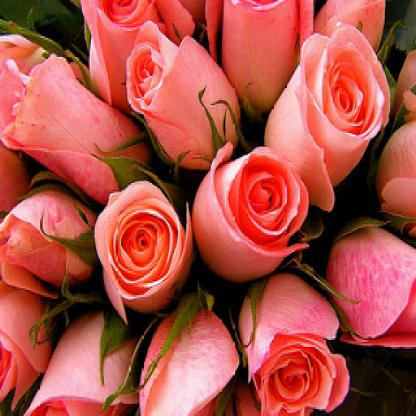ROSE-MAWAR: (4, 8, 411, 415)
